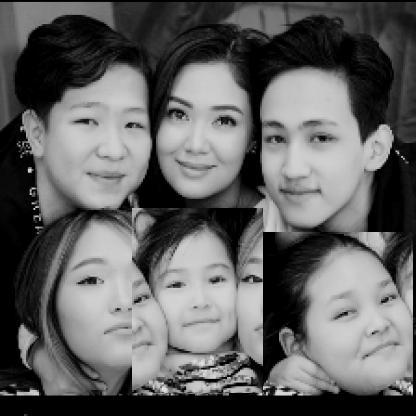child: (230, 233, 415, 415), (133, 209, 265, 395)
